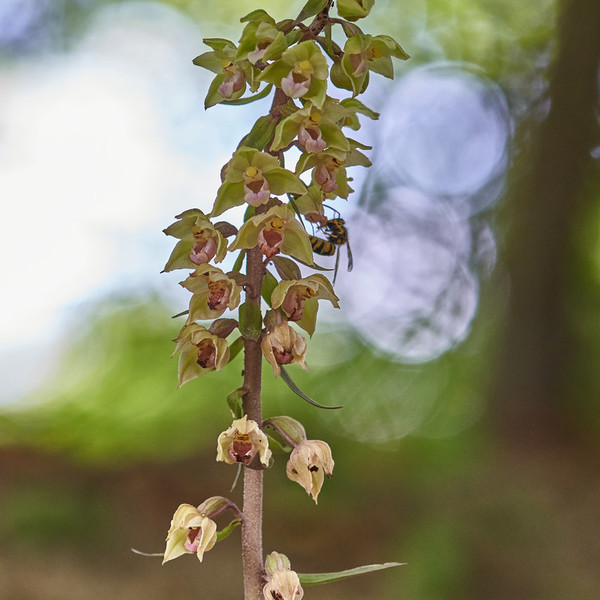obstacle: (156, 4, 337, 594)
